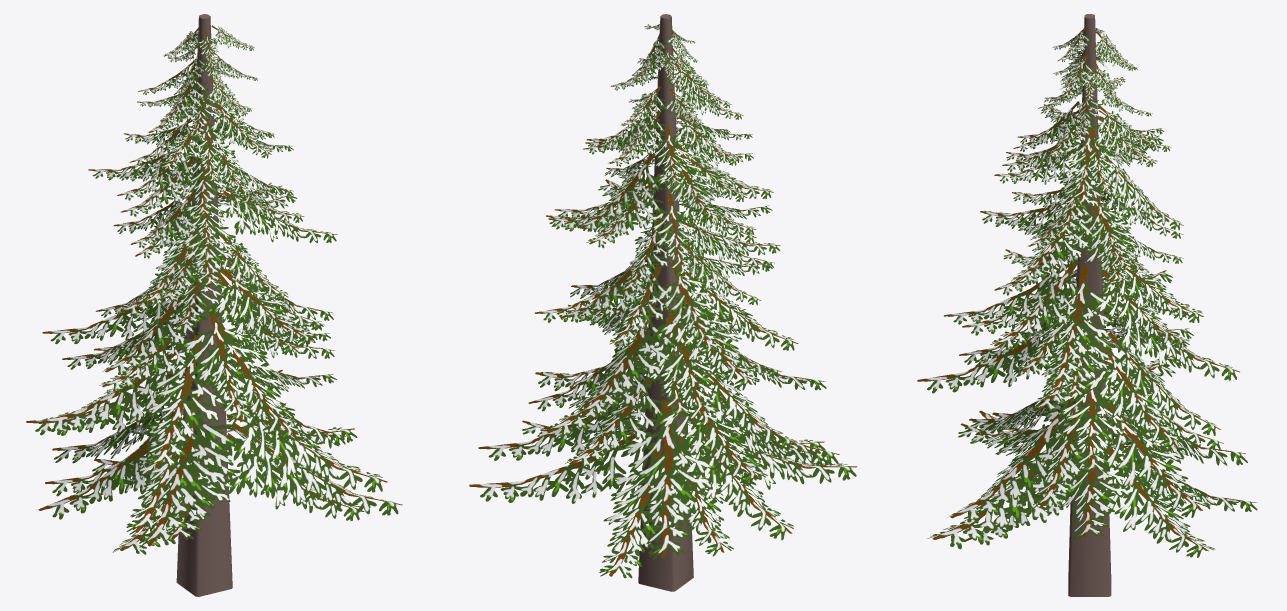
The model's file is Tree.fbx.
The picture shows the model from 3 angles, left to right: view 1: azimuth 30°, elevation 25°; view 2: azimuth 150°, elevation 25°; view 3: azimuth 270°, elevation 25°; orthographic projection.
Parts seen in each view (by area): view 1: Cube, Pine_Leaves.010, Pine_Leaves.019, Pine_Leaves.012, Pine_Leaves.028, Pine_Leaves.006, Pine_Leaves.021, Pine_Leaves.039, Pine_Leaves.022, Pine_Leaves.016, Pine_Leaves.004, Pine_Leaves.034 (+41 smaller); view 2: Cube, Pine_Leaves.011, Pine_Leaves.008, Pine_Leaves.035, Pine_Leaves.005, Pine_Leaves.013, Pine_Leaves.004, Pine_Leaves.029, Pine_Leaves.031, Pine_Leaves.017, Pine_Leaves.038, Pine_Leaves.022 (+37 smaller); view 3: Cube, Pine_Leaves.014, Pine_Leaves.012, Pine_Leaves.036, Pine_Leaves.005, Pine_Leaves.009, Pine_Leaves.006, Pine_Leaves.023, Pine_Leaves.015, Pine_Leaves, Pine_Leaves.026, Pine_Leaves.021 (+43 smaller).
Boxes of the visible parts, box(x1,y1,x2,y2) form: Cube: box(176, 14, 232, 596); Pine_Leaves.010: box(139, 393, 242, 547); Pine_Leaves.019: box(145, 335, 226, 468); Pine_Leaves.012: box(229, 396, 387, 492); Pine_Leaves.028: box(176, 309, 255, 424); Pine_Leaves.006: box(231, 423, 402, 515); Pine_Leaves.021: box(188, 322, 304, 442); Pine_Leaves.039: box(209, 266, 317, 347); Pine_Leaves.022: box(37, 348, 182, 434); Pine_Leaves.016: box(126, 397, 227, 533); Pine_Leaves.004: box(38, 410, 178, 519); Pine_Leaves.034: box(102, 279, 207, 375); Cube: box(638, 14, 693, 591); Pine_Leaves.011: box(616, 399, 714, 560); Pine_Leaves.008: box(599, 447, 686, 578); Pine_Leaves.035: box(576, 301, 680, 415); Pine_Leaves.005: box(469, 433, 635, 503); Pine_Leaves.013: box(652, 376, 767, 485); Pine_Leaves.004: box(662, 406, 793, 540); Pine_Leaves.029: box(641, 311, 722, 431); Pine_Leaves.031: box(653, 285, 759, 390); Pine_Leaves.017: box(565, 372, 668, 468); Pine_Leaves.038: box(650, 262, 721, 356); Pine_Leaves.022: box(669, 352, 797, 450); Cube: box(1068, 14, 1111, 596); Pine_Leaves.014: box(1083, 400, 1210, 517); Pine_Leaves.012: box(947, 399, 1086, 523); Pine_Leaves.036: box(1046, 266, 1119, 385); Pine_Leaves.005: box(1080, 447, 1215, 557); Pine_Leaves.009: box(1049, 368, 1126, 474); Pine_Leaves.006: box(927, 449, 1081, 549); Pine_Leaves.023: box(1079, 340, 1182, 451); Pine_Leaves.015: box(1033, 379, 1119, 508); Pine_Leaves: box(1060, 434, 1130, 541); Pine_Leaves.026: box(1100, 331, 1220, 435); Pine_Leaves.021: box(917, 328, 1052, 393).
Bounding box in the file's own units: 594 × 986 × 584.
